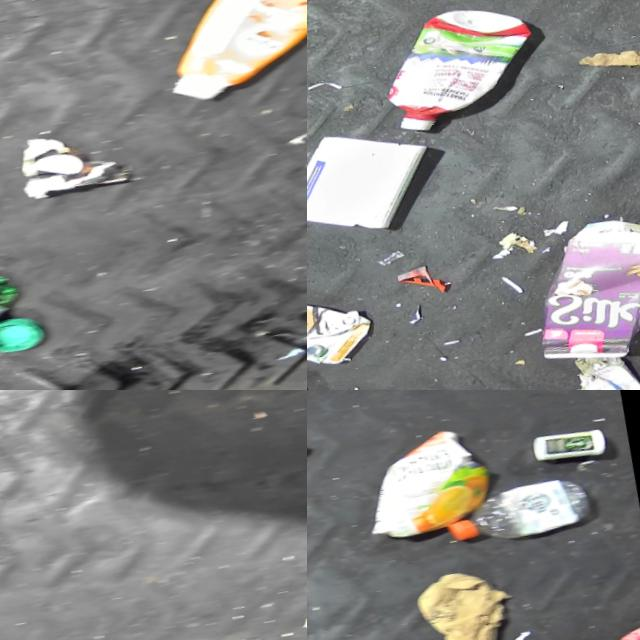can: (582, 599, 640, 640)
non_white_jug: (369, 0, 552, 141), (520, 193, 640, 370), (147, 0, 307, 110), (307, 274, 388, 377)
plastic_bottle: (440, 454, 602, 549)
